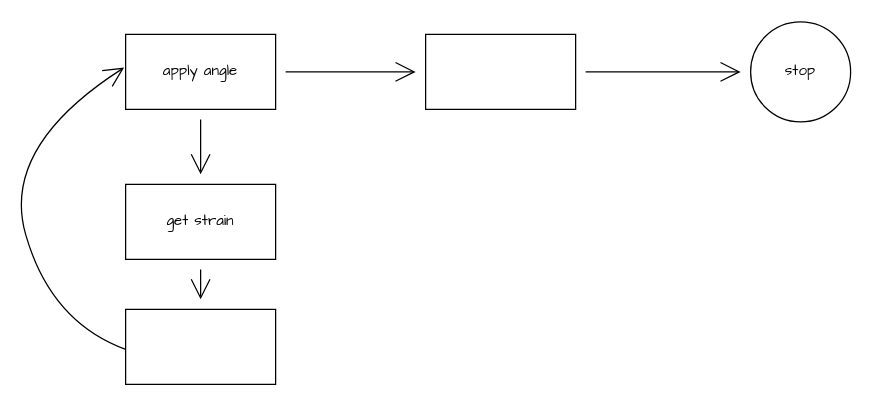
Some shapes in this 874 by 406 pixel diagram are drawn without their labels. Each missing label, with the centre of its shape:
get e-mod: [200,346]
if angle == target: [500,71]
